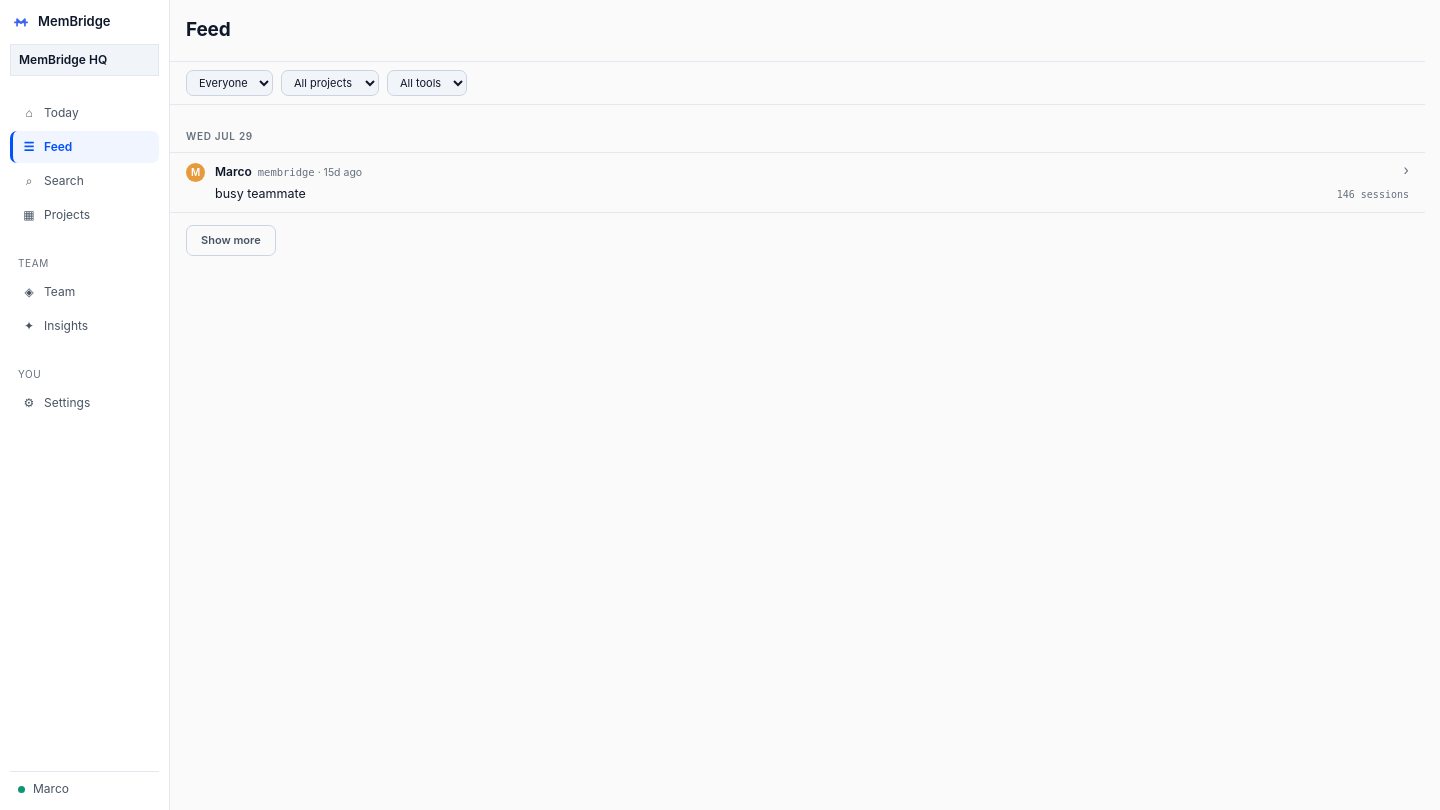
Test case: DayPage: a card clicked out of a filtered feed › renders the day, all the way from picking the filter to clicking the card
This screenshot has width=1440, height=810.
Select "Sarah" in the dropdown named "Filter by person" at [230, 82], box x1=186 y1=70 x2=273 y2=96
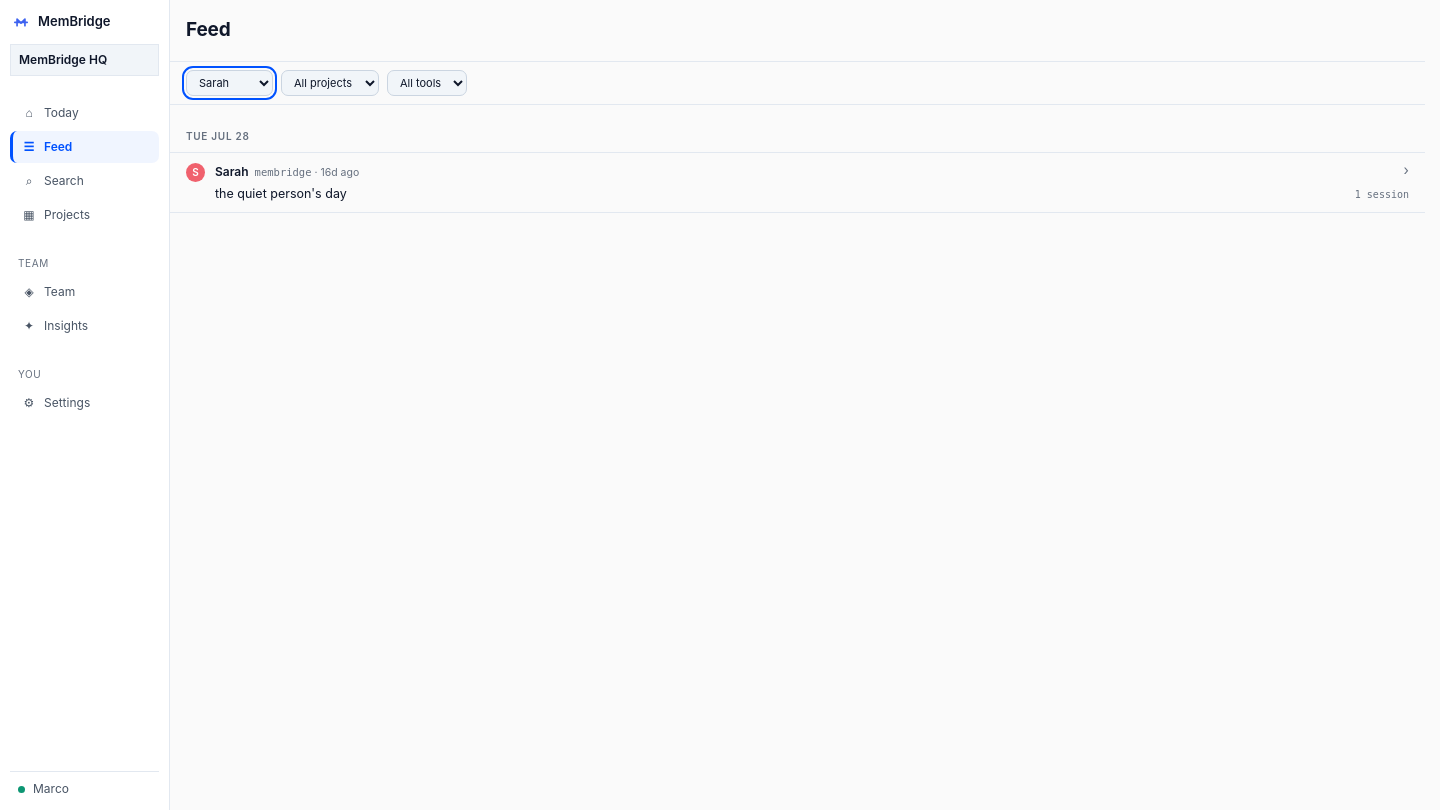
Click the text "the quiet person's day".
click(281, 193)  # box x1=215 y1=186 x2=347 y2=200
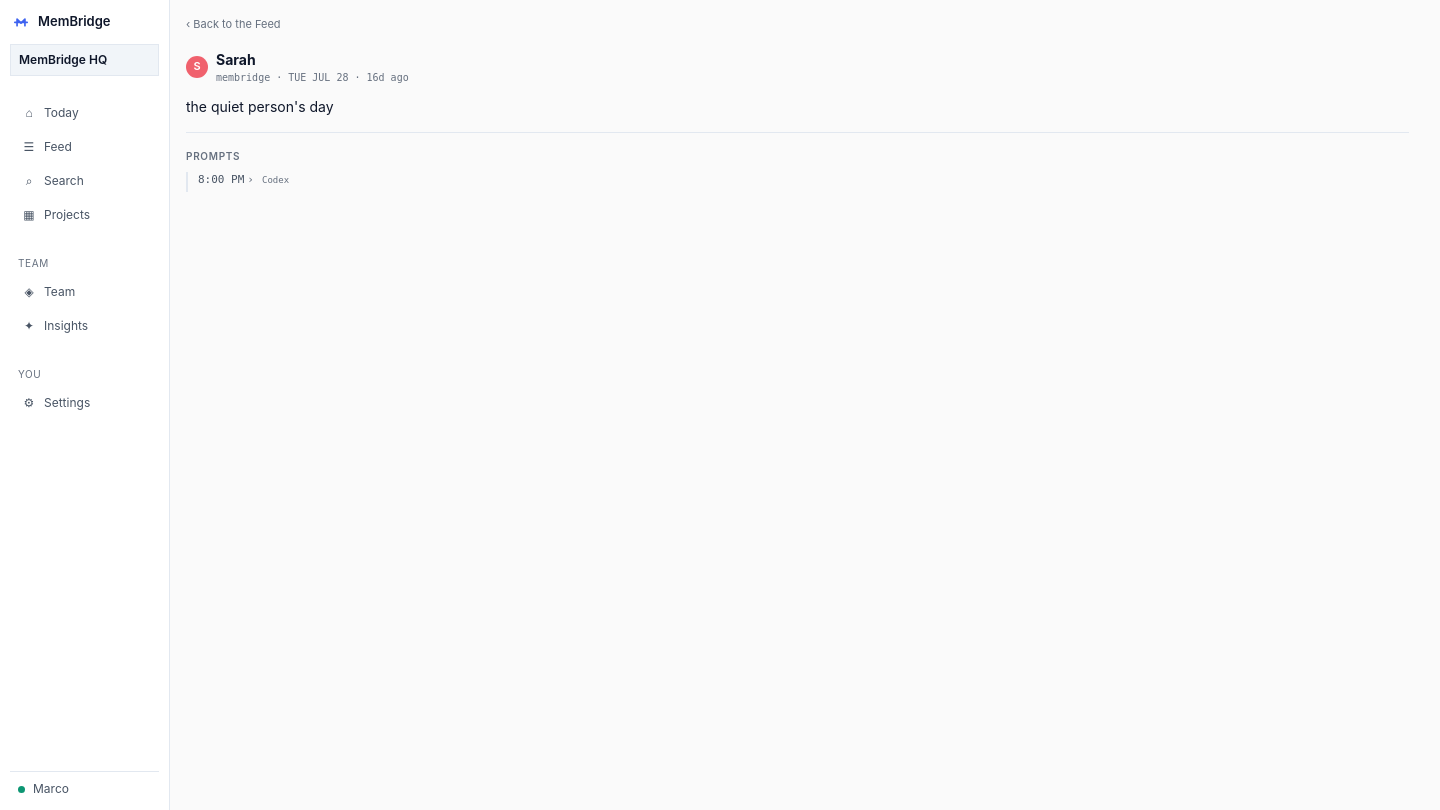
Check: the text with class "day-head-name" reads "Sarah", box x1=216 y1=50 x2=256 y2=68
Check: the link "‹ Back to the Feed" is shown, box x1=186 y1=16 x2=280 y2=32
